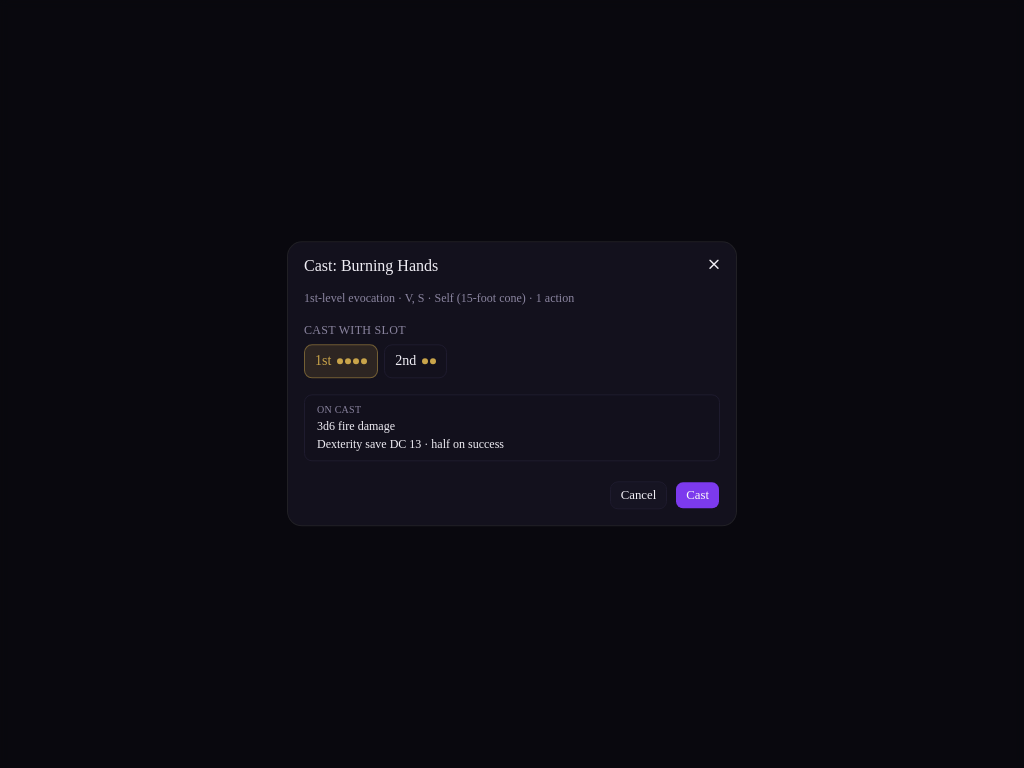
Scenario: CastDialog — configure pane › updates the upcast damage preview when the selection changes
The width and height of the screenshot is (1024, 768).
Check: the text "3d6 fire damage" is shown, box left=317, top=420, right=395, bottom=434
Click the radio button labelled "2nd" at (416, 361), box left=384, top=344, right=447, bottom=378
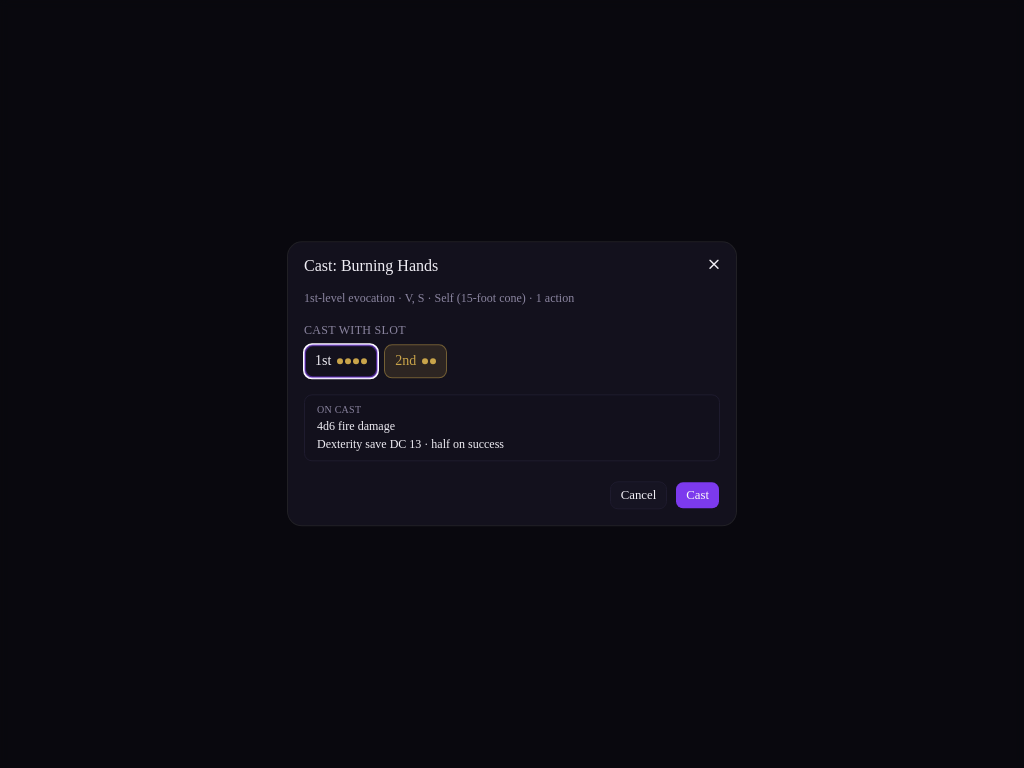
Check: the text "4d6 fire damage" is shown, box left=317, top=420, right=395, bottom=434
